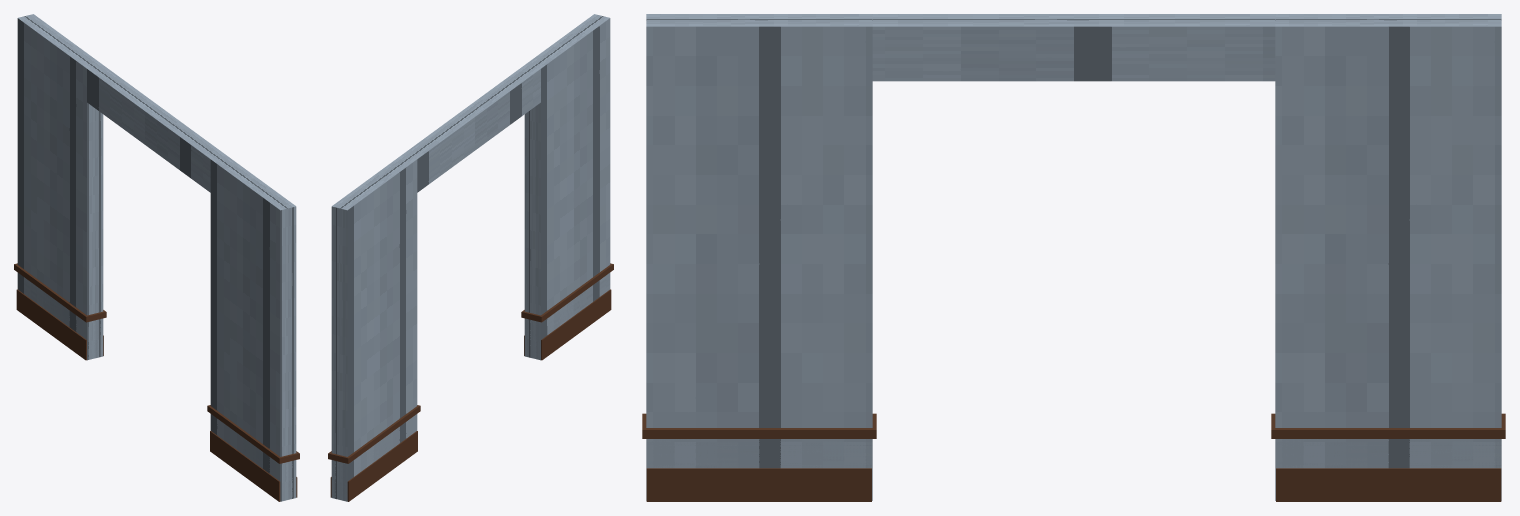
The model's file is living_dining.glb.
3 renders of one model, left to right at view 1: azimuth 30°, elevation 25°; view 2: azimuth 150°, elevation 25°; view 3: azimuth 270°, elevation 25°, orthographic. The views are drawn at different scales.
Visible parts, largest first — view 1: Box3, Box1, Box5, Box4, Box2, Box6, Box9, Box7; view 2: Box1, Box3, Box5, Box2, Box4, Box8, Box7, Box9; view 3: Box3, Box1, Box5, Box2, Box4, Box6, Box8, Box7, Box9.
Part boxes in pixels (x1,y1,x2,y2): Box3: [210, 155, 296, 501]; Box1: [17, 14, 103, 360]; Box5: [87, 65, 226, 192]; Box4: [210, 431, 297, 501]; Box2: [16, 289, 103, 360]; Box6: [17, 273, 102, 359]; Box9: [207, 405, 299, 463]; Box7: [14, 263, 106, 322]; Box1: [331, 155, 417, 501]; Box3: [524, 14, 610, 360]; Box5: [401, 65, 540, 192]; Box2: [330, 431, 417, 501]; Box4: [524, 289, 611, 360]; Box8: [525, 273, 610, 359]; Box7: [328, 405, 420, 463]; Box9: [521, 263, 613, 322]; Box3: [646, 14, 872, 500]; Box1: [1275, 14, 1501, 500]; Box5: [872, 14, 1275, 81]; Box2: [1276, 468, 1501, 501]; Box4: [646, 468, 871, 501]; Box6: [1275, 439, 1501, 500]; Box8: [646, 439, 872, 500]; Box7: [1271, 413, 1505, 438]; Box9: [642, 413, 876, 438].
Size of the model in its own units: 0.19 by 2.6 by 4.29.
2 materials, 1 textured.
